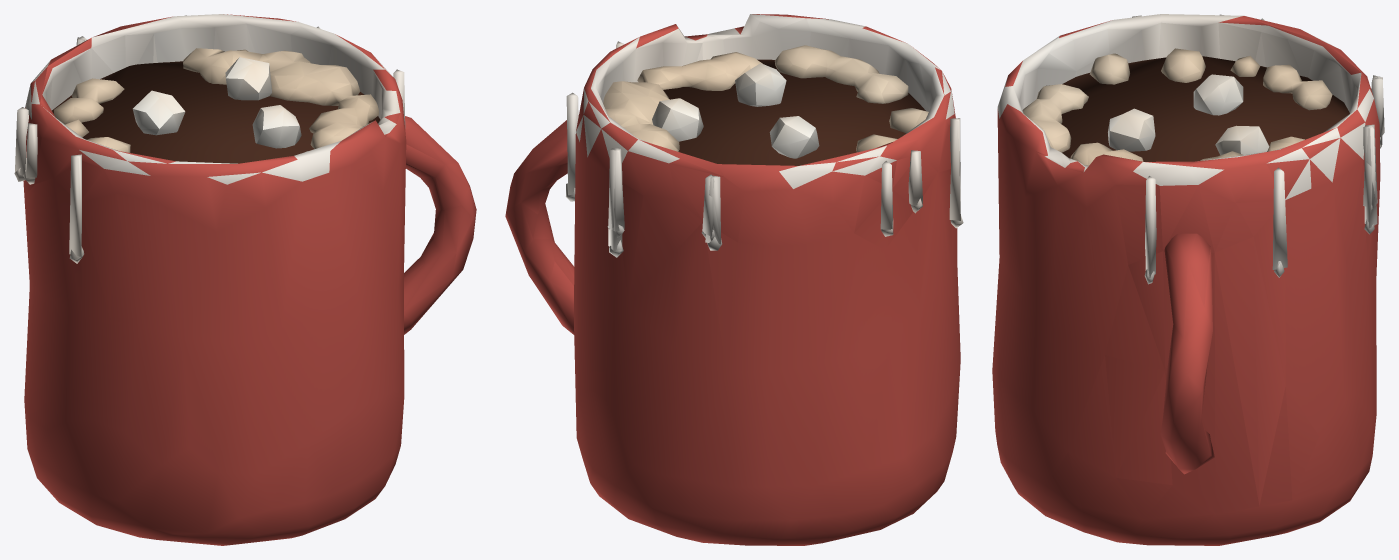
File: frost_cocoa_mug_lod2.glb
The picture shows the model from 3 angles, left to right: view 1: azimuth 30°, elevation 25°; view 2: azimuth 150°, elevation 25°; view 3: azimuth 270°, elevation 25°; orthographic projection.
Visible parts, largest first — view 1: frost_cocoa_mug.001, cocoa_surface.001; view 2: frost_cocoa_mug.001, cocoa_surface.001; view 3: frost_cocoa_mug.001, cocoa_surface.001.
Part boxes in pixels (left/top/right/bottom): frost_cocoa_mug.001: left=14, top=14, right=476, bottom=545; cocoa_surface.001: left=52, top=61, right=380, bottom=163; frost_cocoa_mug.001: left=505, top=14, right=963, bottom=545; cocoa_surface.001: left=663, top=59, right=925, bottom=165; frost_cocoa_mug.001: left=992, top=14, right=1384, bottom=545; cocoa_surface.001: left=1061, top=56, right=1349, bottom=161.
Bounding box in the file's own units: 34 × 30.03 × 26.72.
